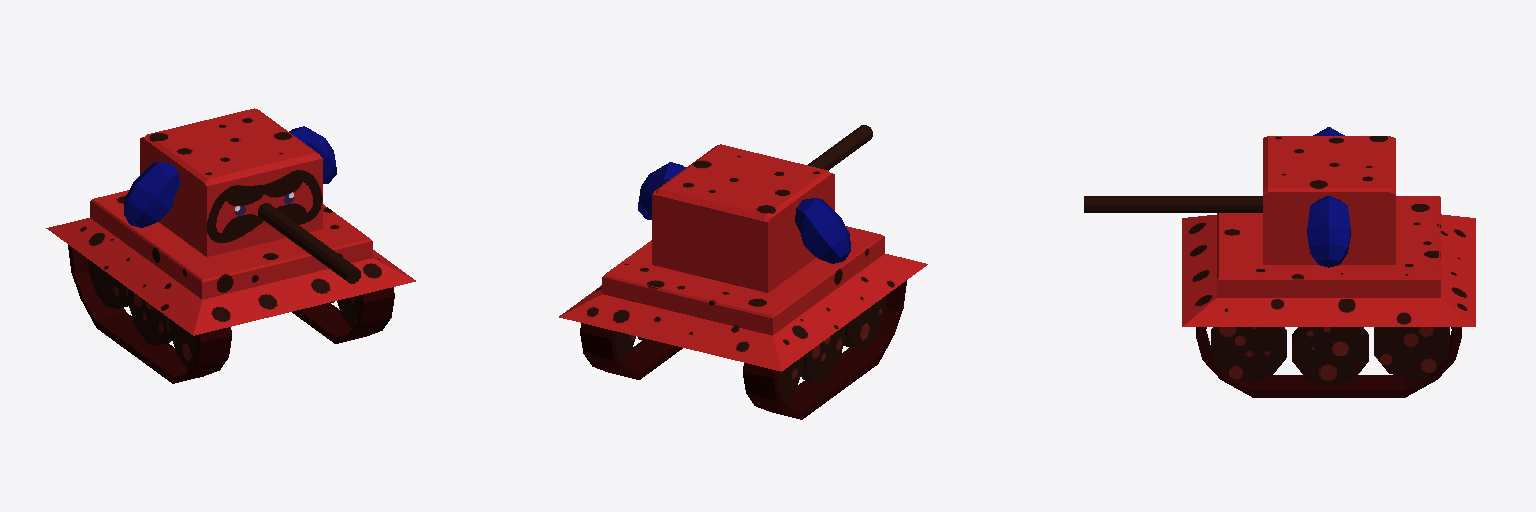
3 renders of one model, left to right at view 1: azimuth 30°, elevation 25°; view 2: azimuth 150°, elevation 25°; view 3: azimuth 270°, elevation 25°, orthographic.
Visible parts, largest first — view 1: tanquecito:pCylinder45; view 2: tanquecito:pCylinder45; view 3: tanquecito:pCylinder45.
Boxes of the visible parts, box(x1,y1,x2,y2) form: tanquecito:pCylinder45: box(46, 108, 415, 383); tanquecito:pCylinder45: box(559, 125, 927, 419); tanquecito:pCylinder45: box(1084, 127, 1475, 397).
Bounding box in the file's own units: 5.98 × 4.83 × 9.09.
Materials: 6 (4 with a texture image).